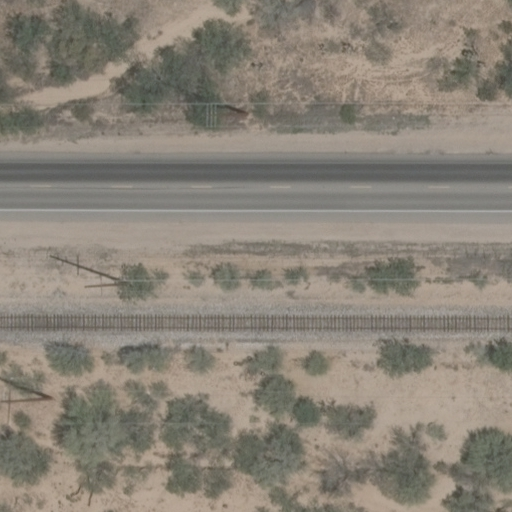DT: (1, 376, 58, 402), (80, 272, 134, 292)
